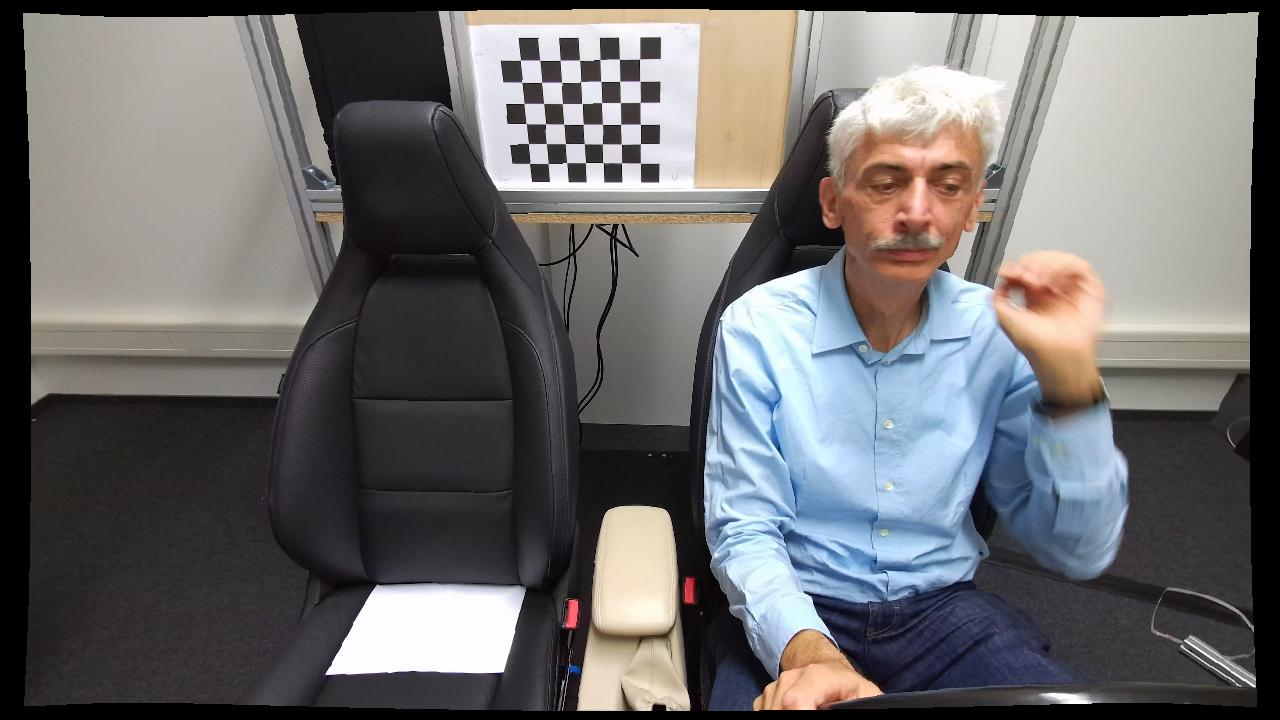Distracted: (704, 62, 1137, 715)
